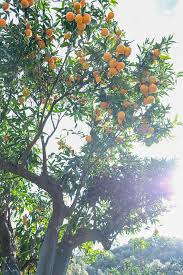orange: (98, 27, 110, 37), (65, 12, 75, 22), (75, 13, 84, 23), (103, 53, 112, 62)
